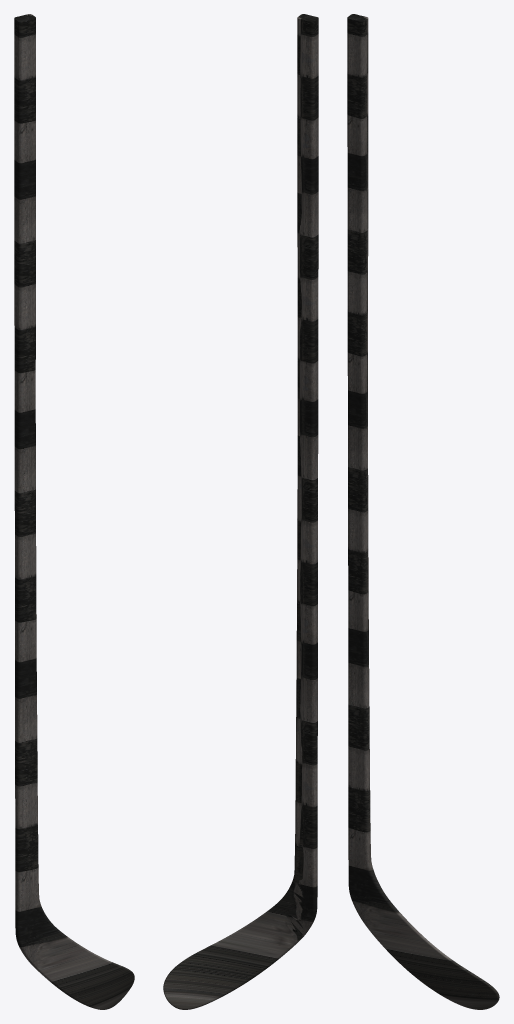
The model's file is P19Y-SBT.glb.
3 views of the same model, side by side, from view 1: azimuth 30°, elevation 25°; view 2: azimuth 150°, elevation 25°; view 3: azimuth 330°, elevation 25° (orthographic). The views are drawn at different scales.
Visible parts, largest first — view 1: geometry_0; view 2: geometry_0; view 3: geometry_0.
Boxes of the visible parts, x1=… form: geometry_0: x1=14, y1=14, x2=134, y2=1009; geometry_0: x1=163, y1=14, x2=318, y2=1009; geometry_0: x1=347, y1=14, x2=499, y2=1009.
Size of the model in its own units: 230 by 1650 by 76.98.
Materials: 1 (1 with a texture image).
